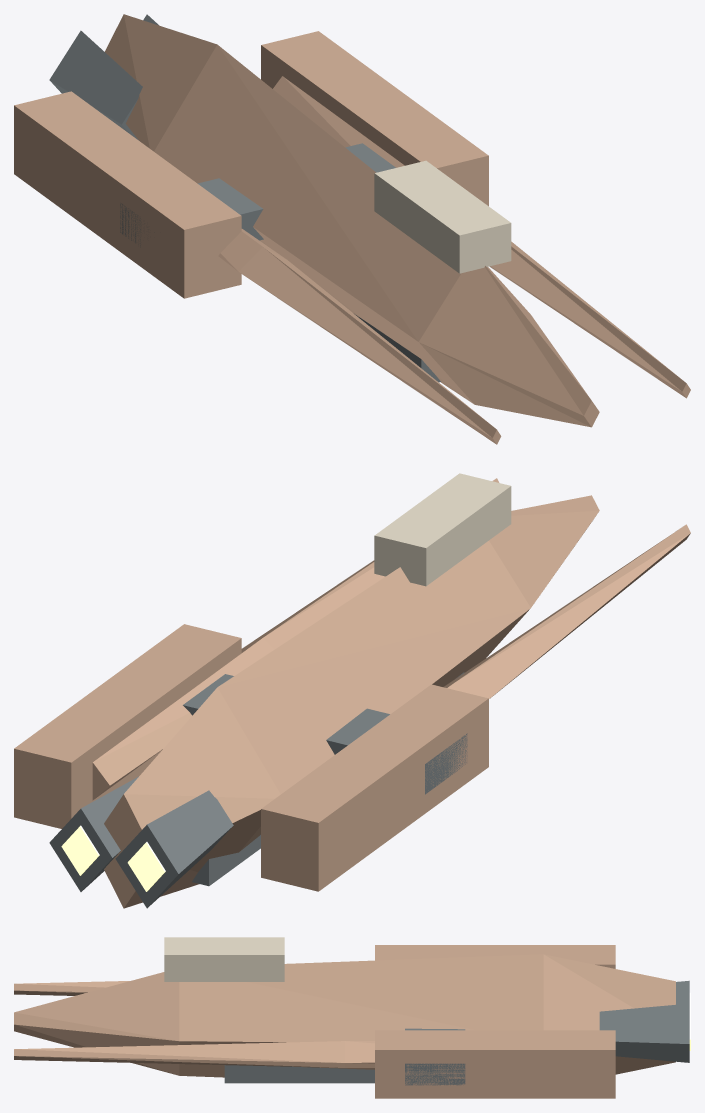
3 views of the same model, one above another, from view 1: azimuth 30°, elevation 25°; view 2: azimuth 150°, elevation 25°; view 3: azimuth 270°, elevation 25° (orthographic). The views are drawn at different scales.
Bounding box in the file's own units: 1.8 × 1.14 × 4.9.
